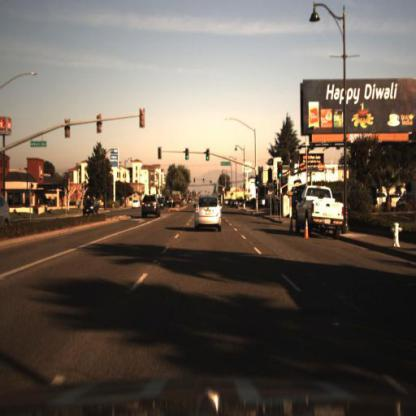car: (292, 183, 349, 238), (293, 181, 345, 232), (192, 192, 224, 233), (137, 191, 162, 220), (79, 196, 103, 220), (129, 198, 143, 211)
trafficLight: (157, 145, 165, 161)
trafficLight-Green: (277, 160, 285, 179), (280, 164, 286, 181), (255, 176, 262, 189), (205, 149, 211, 163), (186, 147, 191, 163), (206, 149, 211, 164), (184, 149, 189, 163), (256, 176, 261, 190)
